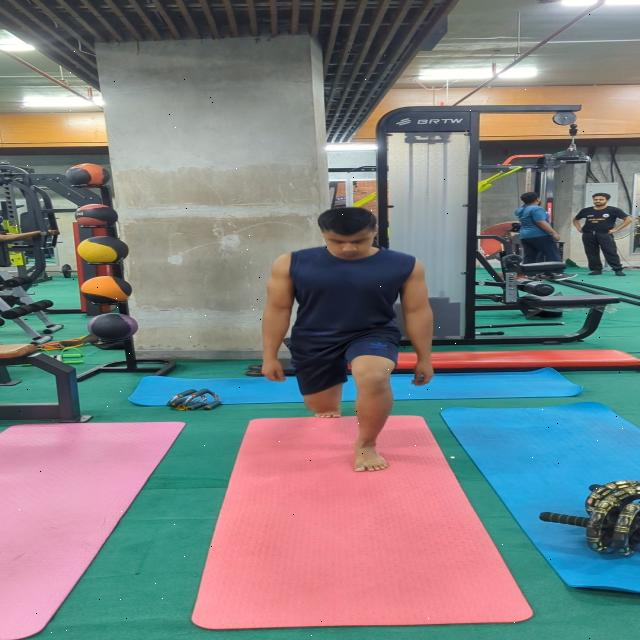Normal_Lunges: (246, 206, 440, 478)
